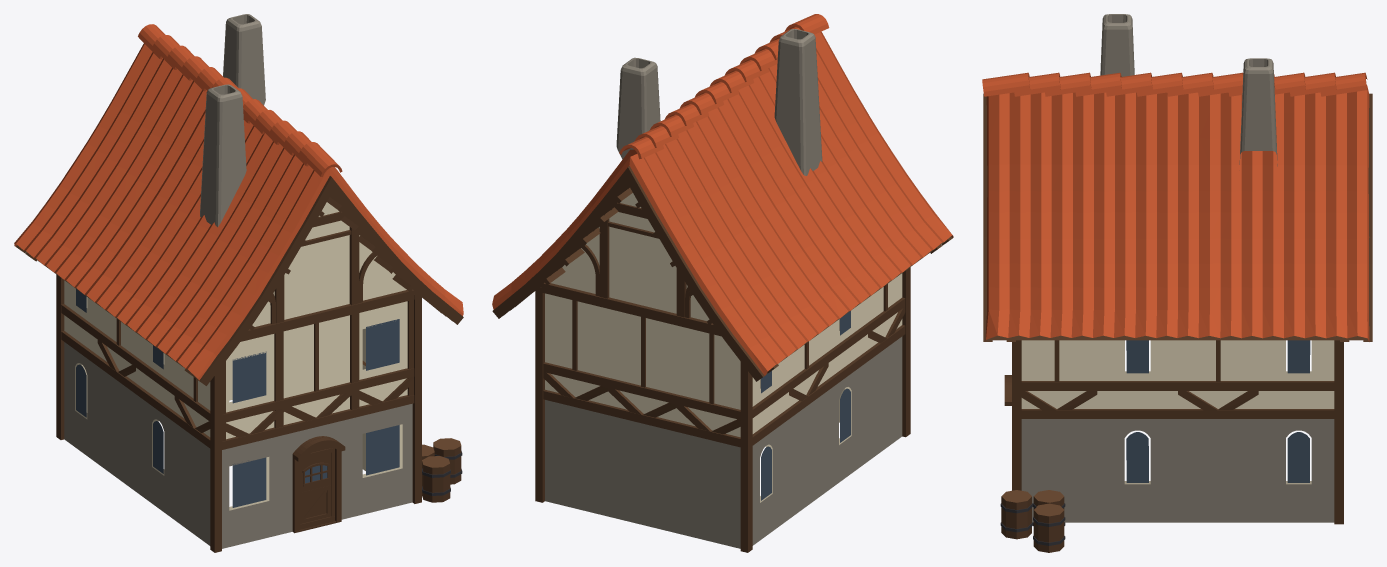
The model's file is brewhouse.obj.
The picture shows the model from 3 angles, left to right: view 1: azimuth 30°, elevation 25°; view 2: azimuth 150°, elevation 25°; view 3: azimuth 270°, elevation 25°; orthographic projection. The views are drawn at different scales.
Size of the model in its own units: 8.92 by 11.8 by 9.68.
